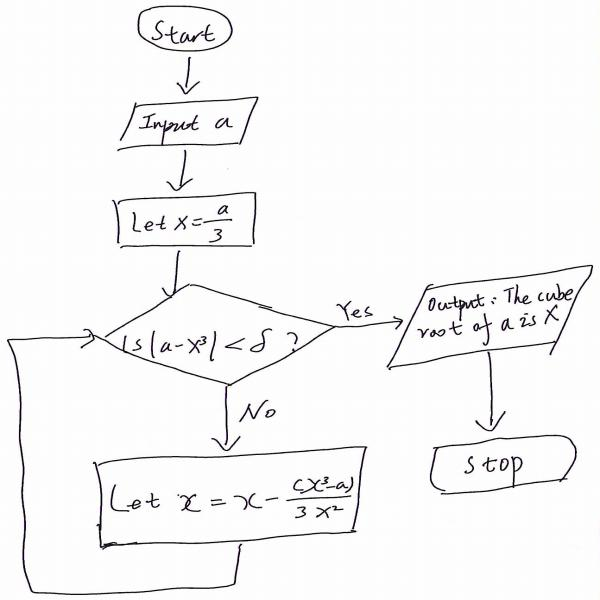arrow: (9, 329, 256, 596), (476, 347, 507, 439), (169, 50, 203, 100), (161, 244, 188, 299), (220, 388, 236, 451), (172, 151, 190, 194), (334, 318, 402, 329)
data: (385, 264, 597, 369), (109, 95, 261, 152)
decision: (96, 277, 339, 392)
process: (88, 447, 368, 546), (113, 190, 262, 246)
terminator: (422, 430, 582, 501), (119, 0, 242, 55)
text: (104, 471, 362, 522), (417, 279, 572, 340), (110, 320, 307, 358), (126, 199, 245, 243), (138, 109, 241, 148), (454, 449, 532, 481), (142, 20, 220, 50), (238, 403, 291, 431), (329, 296, 378, 323)
